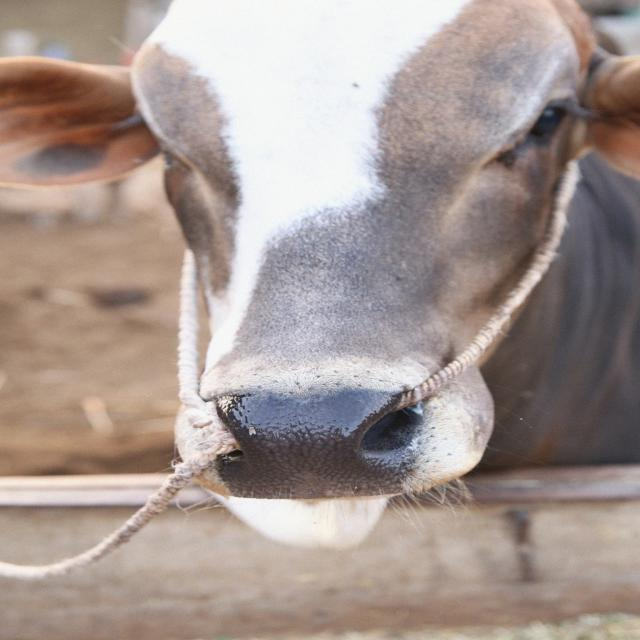muzzles: (197, 381, 432, 503)
